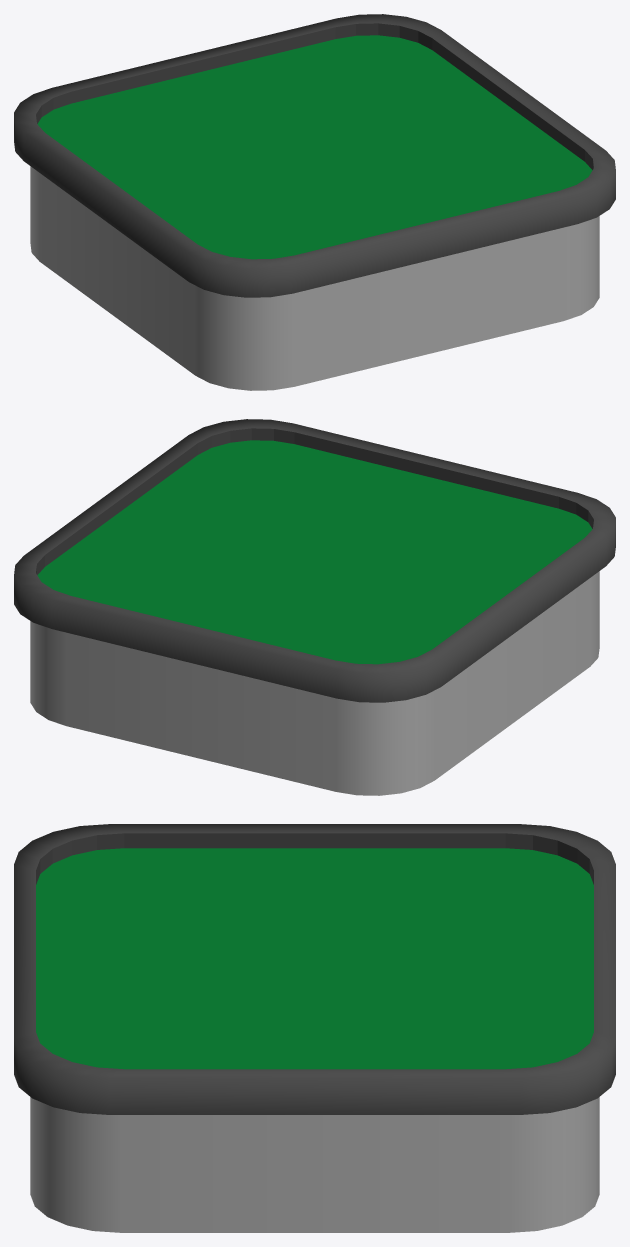
The model's file is Flowerbed-03.fbx.
The picture shows the model from 3 angles, top to bottom: view 1: azimuth 30°, elevation 25°; view 2: azimuth 150°, elevation 25°; view 3: azimuth 270°, elevation 25°; orthographic projection. The views are drawn at different scales.
Parts seen in each view (by area): view 1: Flowerbed-03; view 2: Flowerbed-03; view 3: Flowerbed-03.
Part boxes in pixels (bbox=[...]): Flowerbed-03: bbox=[14, 14, 615, 390]; Flowerbed-03: bbox=[14, 419, 615, 795]; Flowerbed-03: bbox=[14, 824, 615, 1232].
Bounding box in the file's own units: 2.28 × 0.673 × 2.28.
